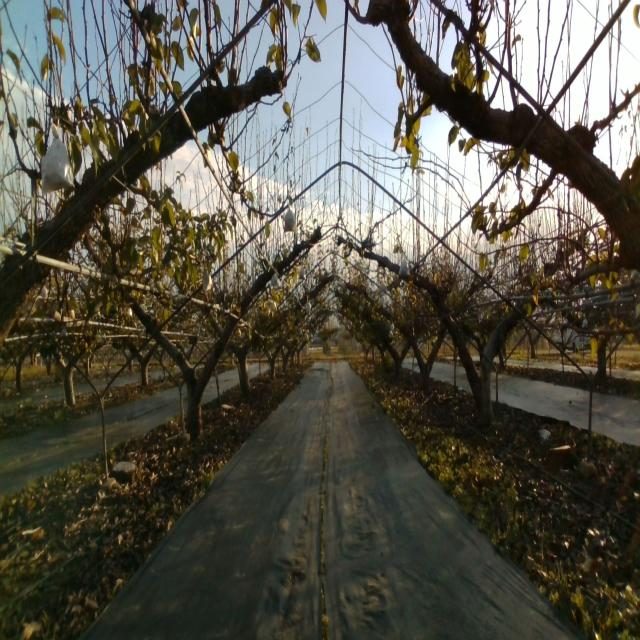pearbags: (41, 124, 76, 195), (284, 205, 298, 232), (398, 258, 411, 277)
